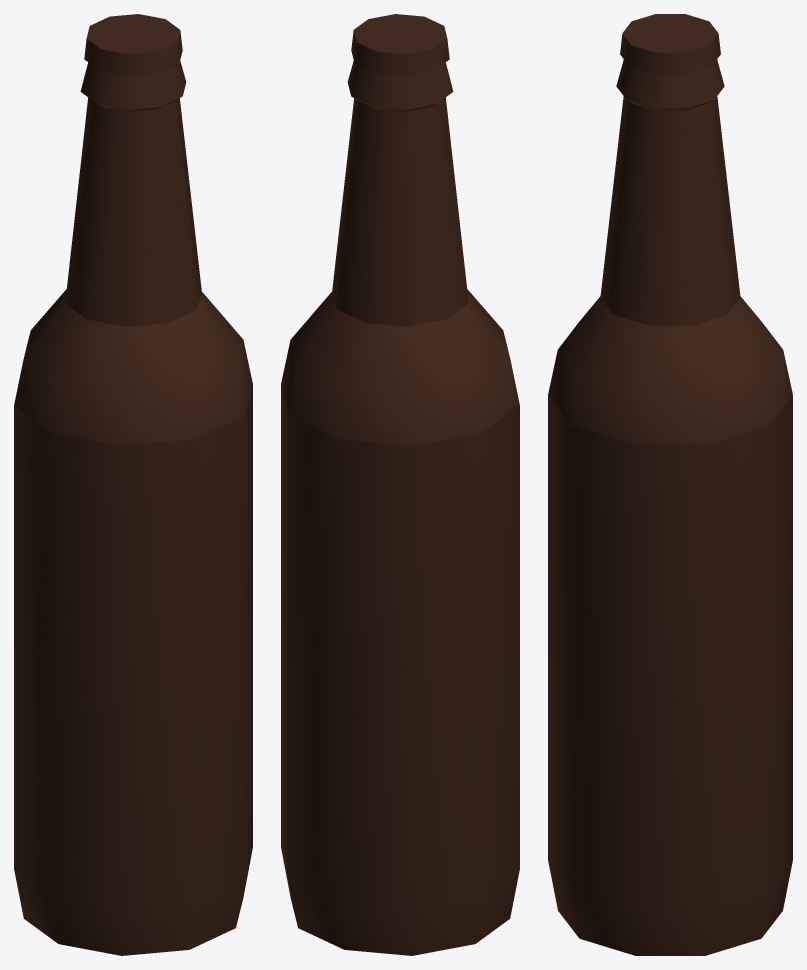
File: beer-bottle.fbx
3 renders of one model, left to right at view 1: azimuth 30°, elevation 25°; view 2: azimuth 150°, elevation 25°; view 3: azimuth 270°, elevation 25°, orthographic.
Parts seen in each view (by area): view 1: Beer_Bottle1.001; view 2: Beer_Bottle1.001; view 3: Beer_Bottle1.001.
Boxes of the visible parts, bbox=[...] form: Beer_Bottle1.001: bbox=[14, 14, 252, 955]; Beer_Bottle1.001: bbox=[281, 14, 519, 955]; Beer_Bottle1.001: bbox=[548, 14, 792, 955].
Size of the model in its own units: 81.05 by 338 by 85.22.
